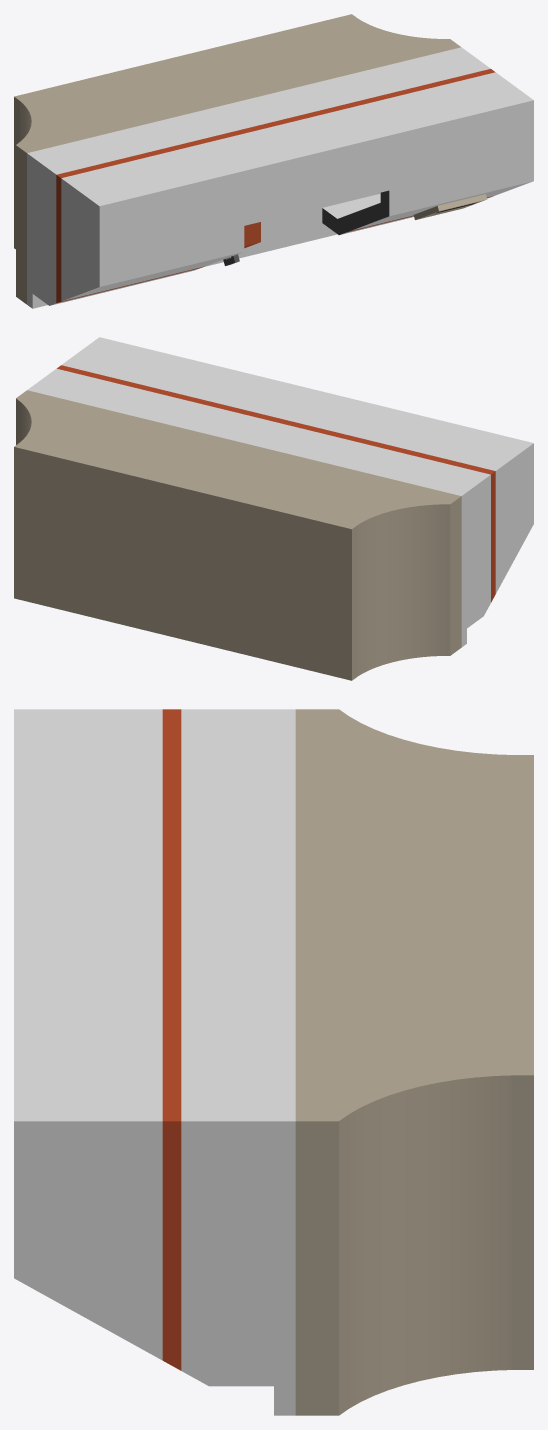
The model's file is cnc_grinding_machine_1_state_1.dae.
3 views of the same model, one above another, from view 1: azimuth 30°, elevation 25°; view 2: azimuth 150°, elevation 25°; view 3: azimuth 270°, elevation 25° (orthographic). The views are drawn at different scales.
Visible parts, largest first — view 1: coords_ME_ID19_MA_material_8, coords_ME_ID3_MA_material_13, coords_ME_ID27_MA_material_8, coords_ME_ID67_MA_material_14, coords_ME_ID61_MA_material, coords_ME_ID73_MA_material_13, coords_ME_ID41_MA_material_14; view 2: coords_ME_ID3_MA_material_13, coords_ME_ID19_MA_material_8, coords_ME_ID27_MA_material_8, coords_ME_ID67_MA_material_14; view 3: coords_ME_ID3_MA_material_13, coords_ME_ID19_MA_material_8, coords_ME_ID27_MA_material_8, coords_ME_ID67_MA_material_14.
Boxes of the visible parts, x1=… form: coords_ME_ID19_MA_material_8: x1=61, y1=72, x2=533, y2=301; coords_ME_ID3_MA_material_13: x1=14, y1=14, x2=460, y2=304; coords_ME_ID27_MA_material_8: x1=27, y1=47, x2=490, y2=308; coords_ME_ID67_MA_material_14: x1=56, y1=69, x2=495, y2=303; coords_ME_ID61_MA_material: x1=322, y1=190, x2=389, y2=234; coords_ME_ID73_MA_material_13: x1=413, y1=194, x2=487, y2=219; coords_ME_ID41_MA_material_14: x1=244, y1=222, x2=260, y2=248; coords_ME_ID3_MA_material_13: x1=14, y1=390, x2=461, y2=680; coords_ME_ID19_MA_material_8: x1=61, y1=337, x2=533, y2=593; coords_ME_ID27_MA_material_8: x1=27, y1=368, x2=490, y2=647; coords_ME_ID67_MA_material_14: x1=57, y1=365, x2=495, y2=602; coords_ME_ID3_MA_material_13: x1=295, y1=709, x2=533, y2=1415; coords_ME_ID19_MA_material_8: x1=14, y1=709, x2=162, y2=1360; coords_ME_ID27_MA_material_8: x1=181, y1=709, x2=295, y2=1415; coords_ME_ID67_MA_material_14: x1=162, y1=709, x2=181, y2=1370.
Bounding box in the file's own units: 38.98 × 12.99 × 20.79.
